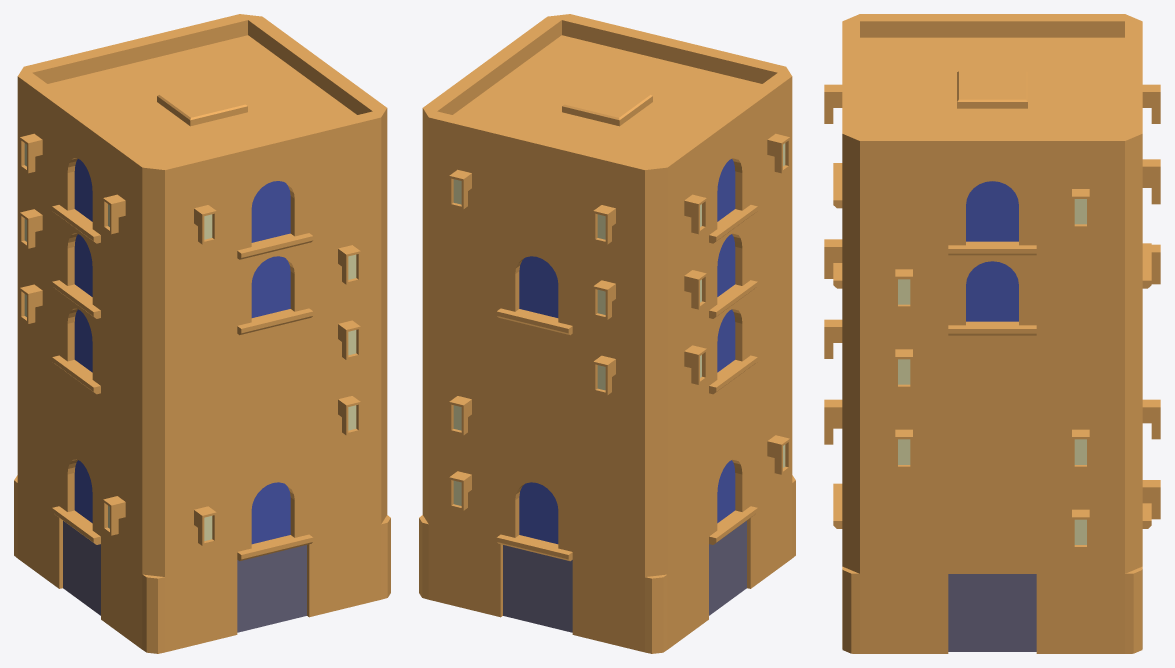
File: house.001.fbx
The picture shows the model from 3 angles, left to right: view 1: azimuth 30°, elevation 25°; view 2: azimuth 150°, elevation 25°; view 3: azimuth 270°, elevation 25°; orthographic projection. The views are drawn at different scales.
Visible parts, largest first — view 1: House; view 2: House; view 3: House.
Part boxes in pixels (x1,y1,x2,y2): House: (14, 14, 390, 653); House: (419, 14, 795, 653); House: (824, 14, 1160, 653).
Size of the model in its own units: 380 by 640 by 380.
